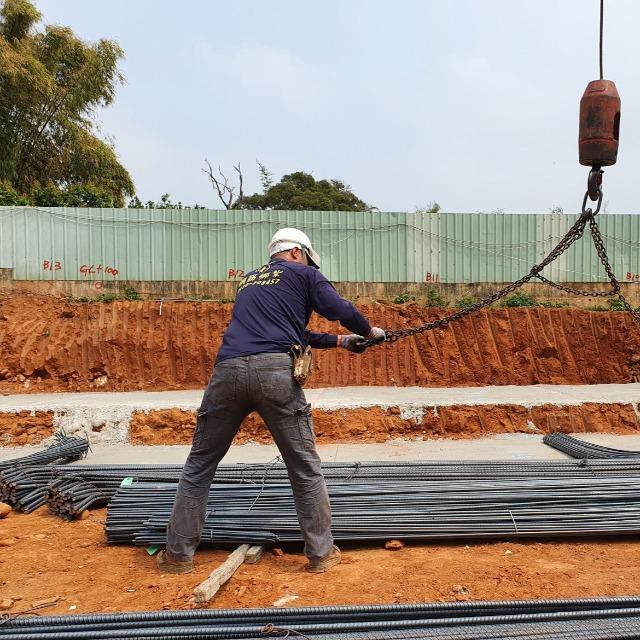NoVest: (221, 263, 323, 366)
